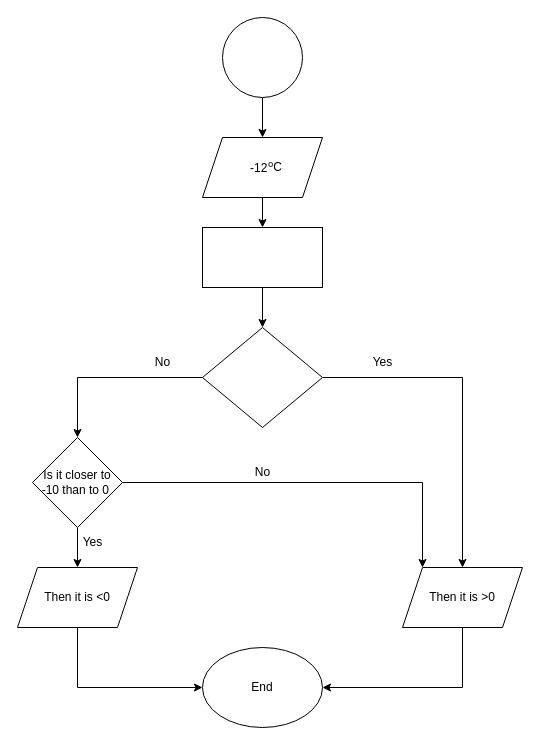
The diagram is 540 pixels wide and 745 high, and some of its shapes have lost their labels. Each missing label, with the centre of its shape:
Find out if it is more or less than 0: the point at 262,257
Is it closer to 0 more than to 10 ?: the point at 262,377
Start: the point at 262,57
